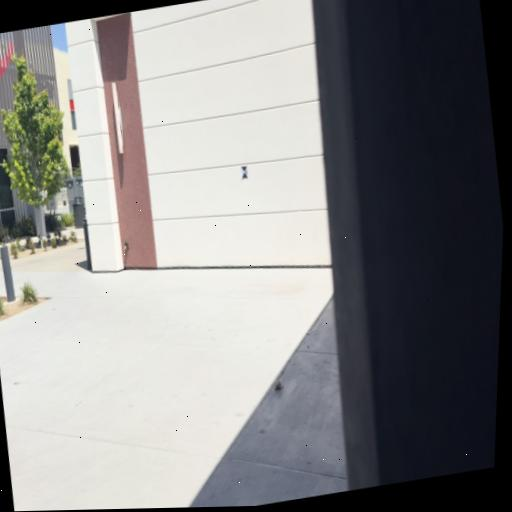target0: (240, 165, 249, 180)
